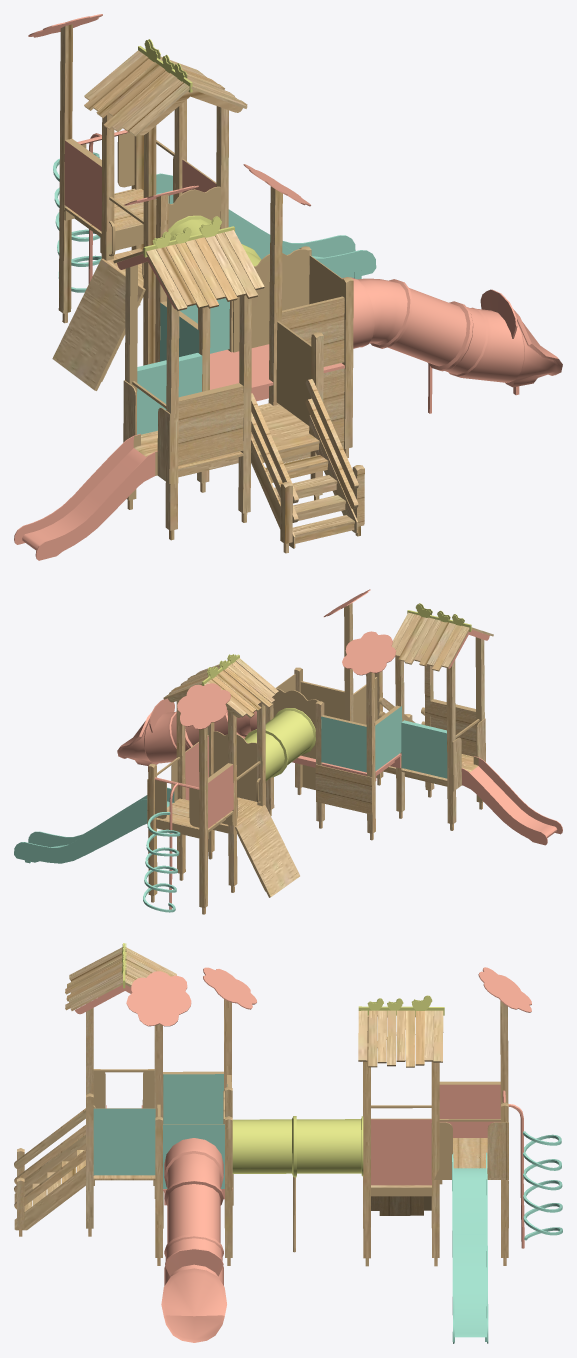
The model's file is slider.glb.
3 renders of one model, top to bottom at view 1: azimuth 30°, elevation 25°; view 2: azimuth 150°, elevation 25°; view 3: azimuth 270°, elevation 25°, orthographic. The views are drawn at different scales.
Parts seen in each view (by area): view 1: Cube.057__0.046, Cube.060__0.071, Cylinder.018__0.010, Cube.059__0.035, Cube.059__0.162, Cylinder.018__0.007, Cube.059__0.166, Cube.060__0.026, Cube.057__0.068, Cube.060__0.002, Cube.060__0.459, Cube.057__0.005 (+42 smaller); view 2: Cube.057__0.046, Cube.057__0.001, Cube.059__0.066, Cube.060__0.024, Cube.059__0.076, Cube.052__0.013, Cube.057__0.003, Cube.045__0.018, Cylinder.020__0.008, Cube.060__0.072, Cube.059__0.071, Cube.057__0.068 (+35 smaller); view 3: Cube.057__0.018, Cube.059__0.160, Cube.057__0.064, Cylinder.020__0.007, Cylinder.020__0.008, Cube.059__0.073, Cube.057__0.066, Cylinder.018__0.010, Cylinder.018__0.013, Cube.040__0.017, Cube.060__0.284, Cylinder.018__0.002 (+32 smaller).
Boxes of the visible parts, x1=… form: Cube.057__0.046: x1=52, y1=259, x2=143, y2=389; Cube.060__0.071: x1=178, y1=386, x2=243, y2=465; Cylinder.018__0.010: x1=387, y1=288, x2=466, y2=366; Cube.059__0.035: x1=233, y1=249, x2=309, y2=352; Cube.059__0.162: x1=276, y1=322, x2=311, y2=425; Cylinder.018__0.007: x1=458, y1=309, x2=523, y2=382; Cube.059__0.166: x1=281, y1=298, x2=344, y2=366; Cube.060__0.026: x1=137, y1=356, x2=202, y2=434; Cube.057__0.068: x1=64, y1=140, x2=101, y2=231; Cube.060__0.002: x1=22, y1=448, x2=145, y2=548; Cube.060__0.459: x1=36, y1=452, x2=155, y2=560; Cube.057__0.005: x1=170, y1=194, x2=376, y2=277; Cube.057__0.046: x1=236, y1=806, x2=299, y2=896; Cube.057__0.001: x1=14, y1=799, x2=147, y2=863; Cube.059__0.066: x1=315, y1=765, x2=371, y2=814; Cube.060__0.024: x1=401, y1=722, x2=447, y2=778; Cube.059__0.076: x1=321, y1=716, x2=366, y2=772; Cube.052__0.013: x1=177, y1=683, x2=230, y2=728; Cube.057__0.003: x1=213, y1=731, x2=256, y2=801; Cube.045__0.018: x1=342, y1=631, x2=395, y2=674; Cylinder.020__0.008: x1=265, y1=710, x2=313, y2=764; Cube.060__0.072: x1=430, y1=701, x2=476, y2=756; Cube.059__0.071: x1=375, y1=706, x2=402, y2=770; Cube.057__0.068: x1=208, y1=764, x2=233, y2=828; Cube.057__0.018: x1=453, y1=1168, x2=486, y2=1337; Cube.059__0.160: x1=93, y1=1108, x2=155, y2=1175; Cube.057__0.064: x1=371, y1=1119, x2=431, y2=1185; Cylinder.020__0.007: x1=296, y1=1119, x2=361, y2=1173; Cylinder.020__0.008: x1=232, y1=1119, x2=292, y2=1173; Cube.059__0.073: x1=163, y1=1074, x2=223, y2=1123; Cube.057__0.066: x1=439, y1=1084, x2=500, y2=1137; Cylinder.018__0.010: x1=167, y1=1184, x2=220, y2=1243; Cylinder.018__0.013: x1=161, y1=1268, x2=226, y2=1316; Cube.040__0.017: x1=126, y1=971, x2=191, y2=1025; Cube.060__0.284: x1=363, y1=1046, x2=370, y2=1258; Cylinder.018__0.002: x1=164, y1=1151, x2=223, y2=1188.
Size of the model in its own units: 13.45 by 7.18 by 13.63.
Materials: 6 (2 with a texture image).
